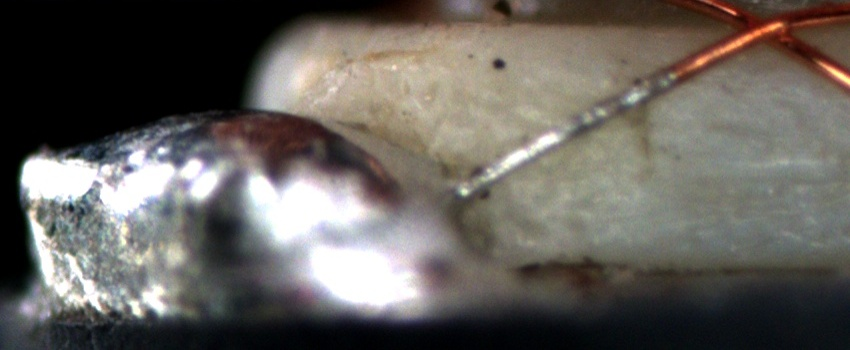CL: (717, 4, 809, 56)
DL: (651, 144, 850, 184)
TS: (458, 67, 678, 200)
